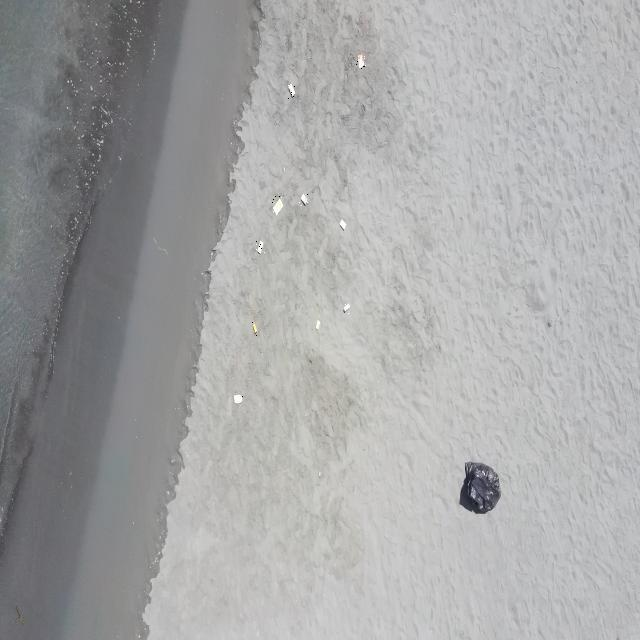Garbage: (460, 463, 500, 512), (272, 198, 283, 215), (357, 52, 364, 68), (287, 83, 295, 96), (256, 240, 263, 252), (300, 193, 307, 204), (339, 219, 346, 230), (233, 393, 240, 403), (343, 303, 350, 312), (252, 320, 256, 335), (315, 320, 320, 328), (318, 471, 319, 476)
